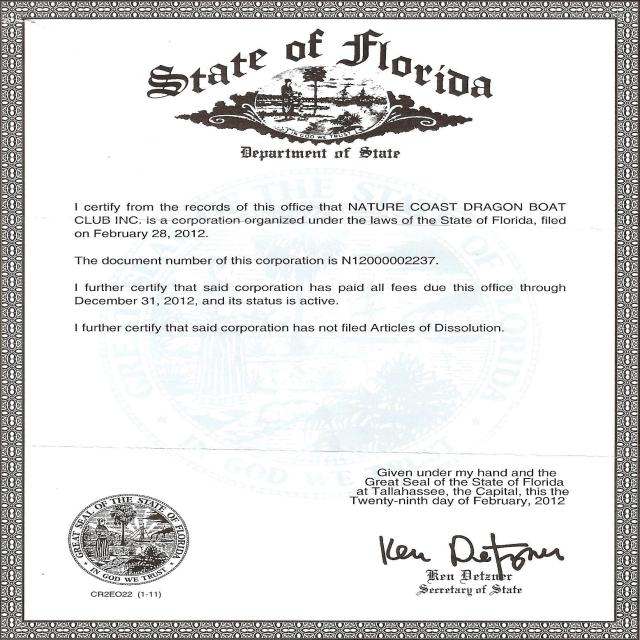signature: (368, 525, 586, 574)
